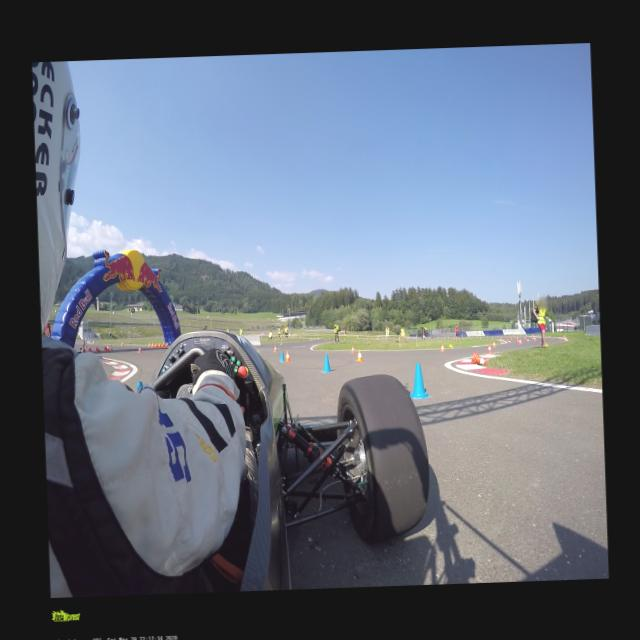blue_cone: (408, 362, 429, 398), (321, 353, 332, 372), (278, 350, 283, 362)
orange_cone: (474, 353, 488, 365), (356, 349, 363, 361), (284, 350, 290, 362), (486, 342, 491, 353), (440, 344, 444, 352), (272, 344, 276, 352), (106, 344, 110, 351), (351, 345, 354, 353), (138, 346, 142, 352), (150, 342, 154, 347), (492, 341, 496, 346), (110, 344, 112, 351), (120, 340, 122, 346), (564, 336, 566, 342), (148, 342, 150, 347), (519, 338, 521, 343), (534, 336, 536, 341), (92, 340, 94, 344)
yellow_cone: (448, 343, 453, 348)
